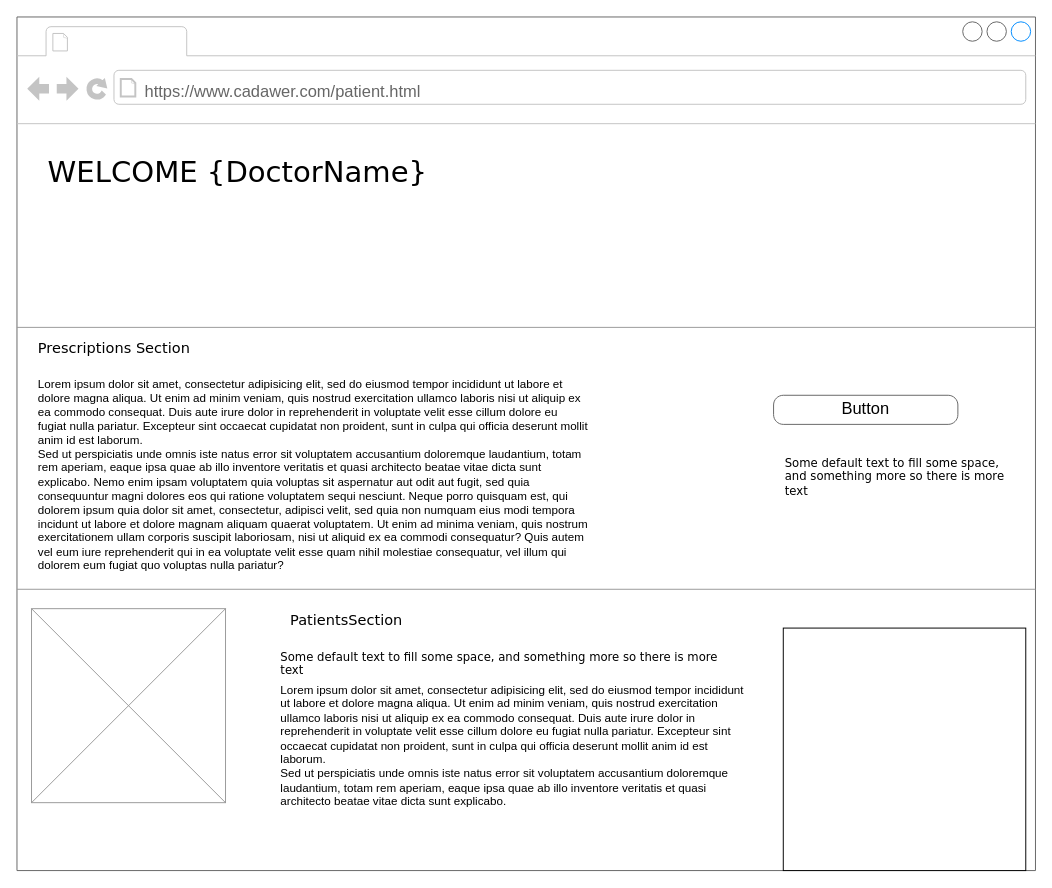
Image size: 1052x888. Some labels were removed from this diagram. Here are the shapes that lost their labels. From the top down, the centre of each, then its label:
At (x=128, y=41): "Page 1".
At (x=904, y=749): "Patients table".
